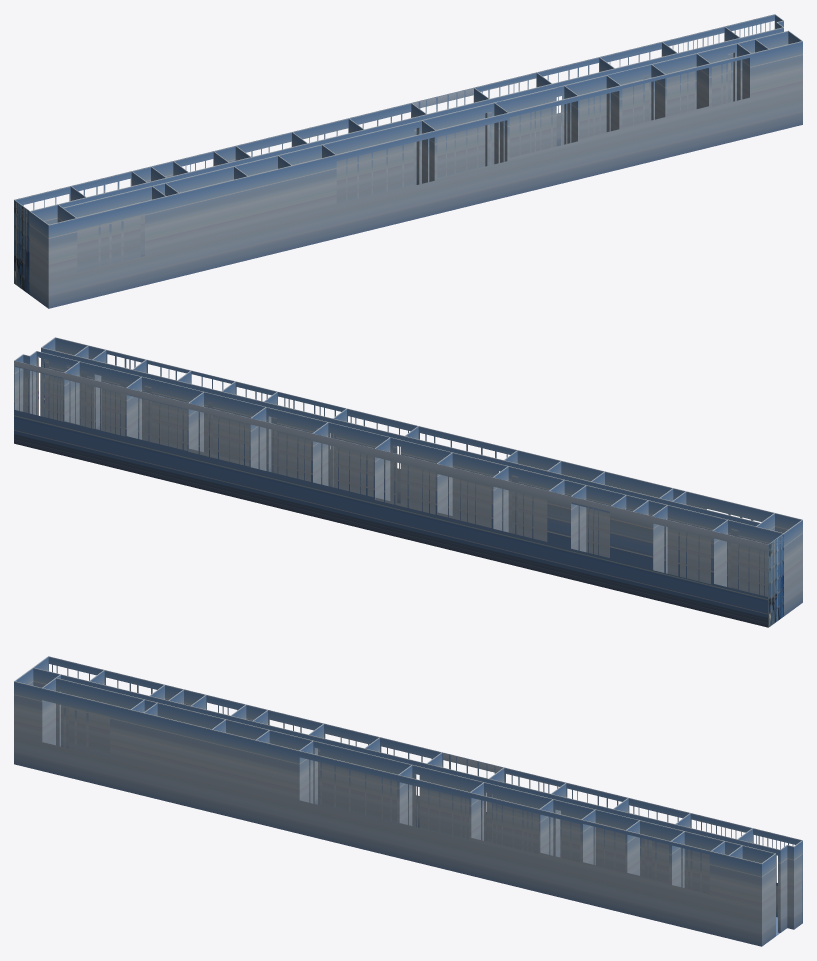
File: IMT_ESPACE_ENTREPRISE_STRUCTURE.glb
3 renders of one model, top to bottom at view 1: azimuth 30°, elevation 25°; view 2: azimuth 150°, elevation 25°; view 3: azimuth 330°, elevation 25°, orthographic.
Parts seen in each view (by area): view 1: BLOC B; view 2: BLOC B; view 3: BLOC B.
Part boxes in pixels (bbox=[...]): BLOC B: bbox=[14, 14, 802, 308]; BLOC B: bbox=[14, 337, 802, 627]; BLOC B: bbox=[14, 656, 802, 946].
Size of the model in its own units: 145 by 15.18 by 11.4.
6 materials, 1 textured.
